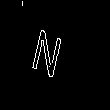N_S: (37, 24, 73, 86)
